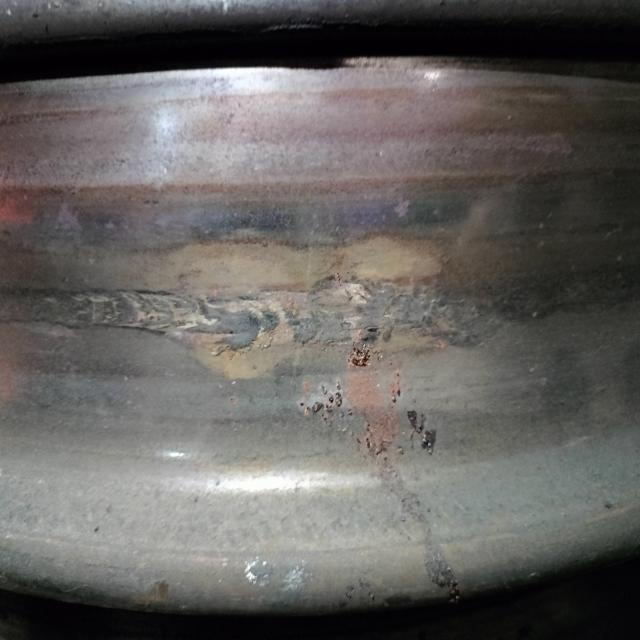Peeling: (348, 342, 372, 370)
Rollerpile: (1, 276, 504, 353)
